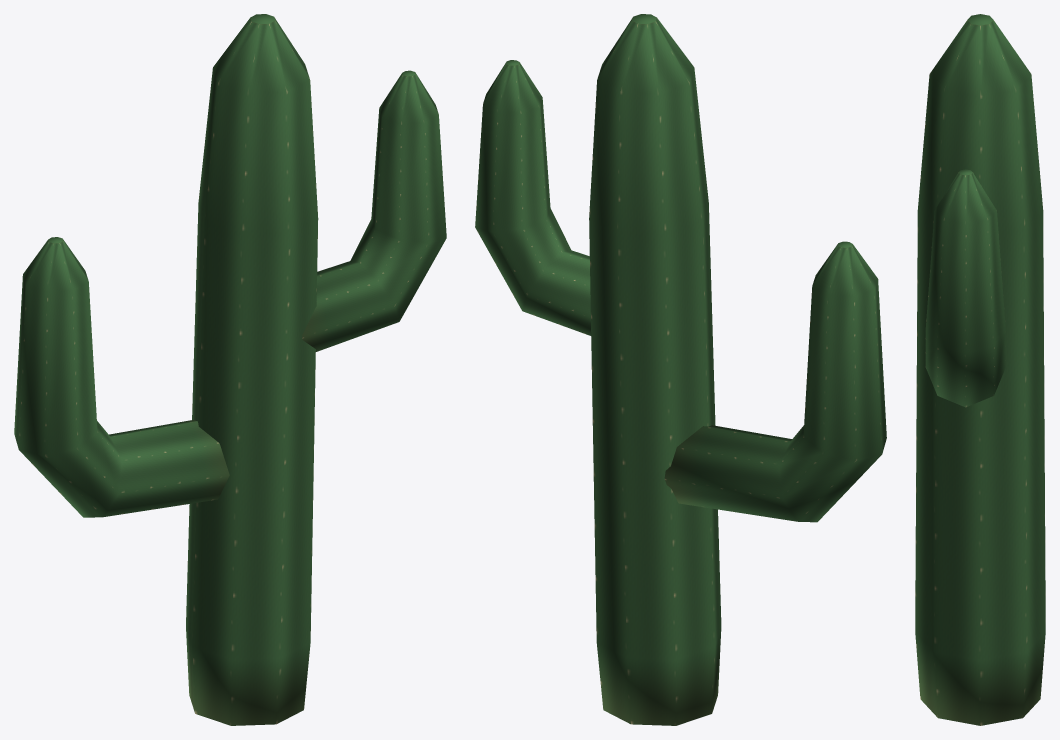
File: Cactus Forked LOD.fbx
3 views of the same model, side by side, from view 1: azimuth 30°, elevation 25°; view 2: azimuth 150°, elevation 25°; view 3: azimuth 270°, elevation 25° (orthographic).
Parts seen in each view (by area): view 1: Cactus Forked LOD; view 2: Cactus Forked LOD; view 3: Cactus Forked LOD.
Boxes of the visible parts, x1,y1,x2,y2 form: Cactus Forked LOD: [14, 14, 446, 725]; Cactus Forked LOD: [475, 14, 886, 725]; Cactus Forked LOD: [915, 14, 1045, 725].
Size of the model in its own units: 115 by 180 by 31.
